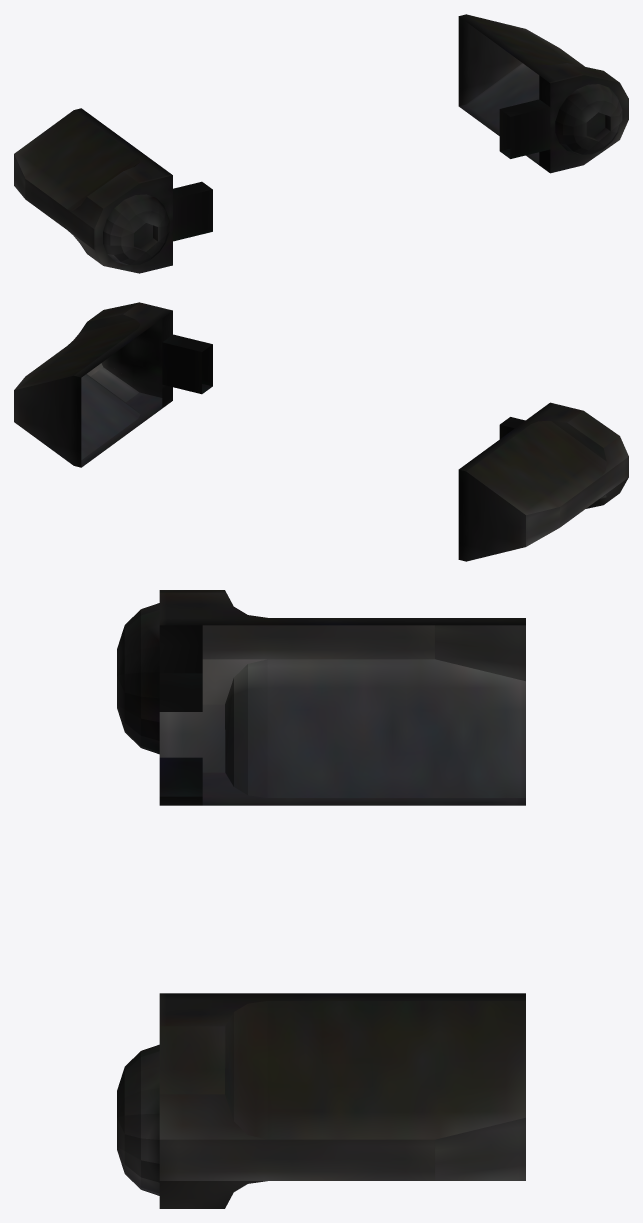
3 views of the same model, one above another, from view 1: azimuth 30°, elevation 25°; view 2: azimuth 150°, elevation 25°; view 3: azimuth 270°, elevation 25° (orthographic). The views are drawn at different scales.
Parts seen in each view (by area): view 1: TW_5f2a9575926fd9352339381f_PZ_Import; view 2: TW_5f2a9575926fd9352339381f_PZ_Import; view 3: TW_5f2a9575926fd9352339381f_PZ_Import.
Boxes of the visible parts, x1,y1,x2,y2 form: TW_5f2a9575926fd9352339381f_PZ_Import: (14,14,628,273); TW_5f2a9575926fd9352339381f_PZ_Import: (14,302,628,561); TW_5f2a9575926fd9352339381f_PZ_Import: (117,590,525,1208).
Size of the model in its own units: 0.029 by 0.0096 by 0.00467.
1 material, 1 textured.
